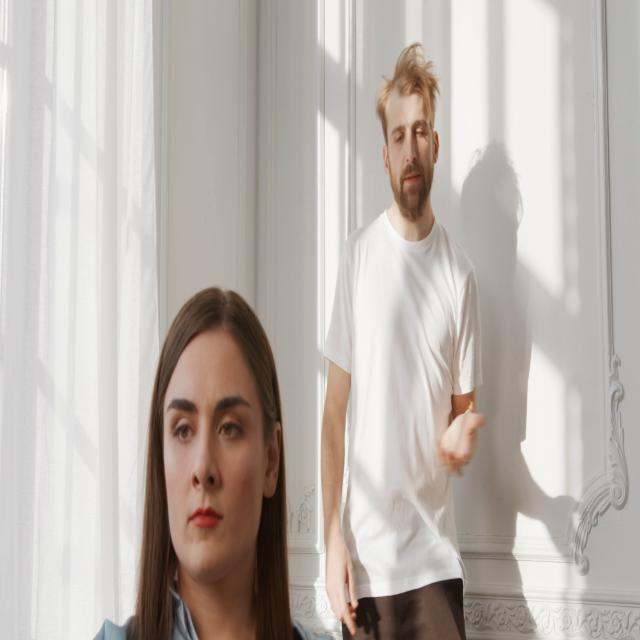confused: (357, 20, 462, 244)
sad: (150, 313, 286, 588)
